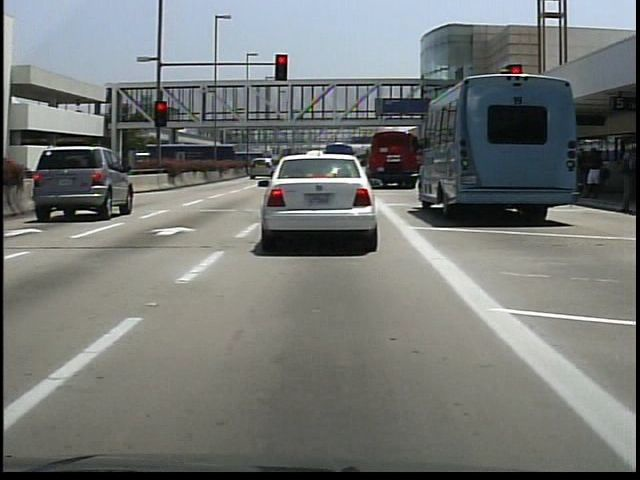person: (583, 146, 604, 199)
